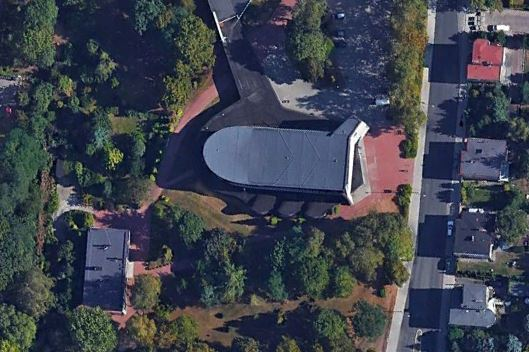block of flats: (76, 223, 133, 315)
church: (200, 107, 374, 208)
family house: (451, 205, 501, 264), (446, 278, 500, 327), (457, 133, 511, 181), (464, 36, 506, 85)
